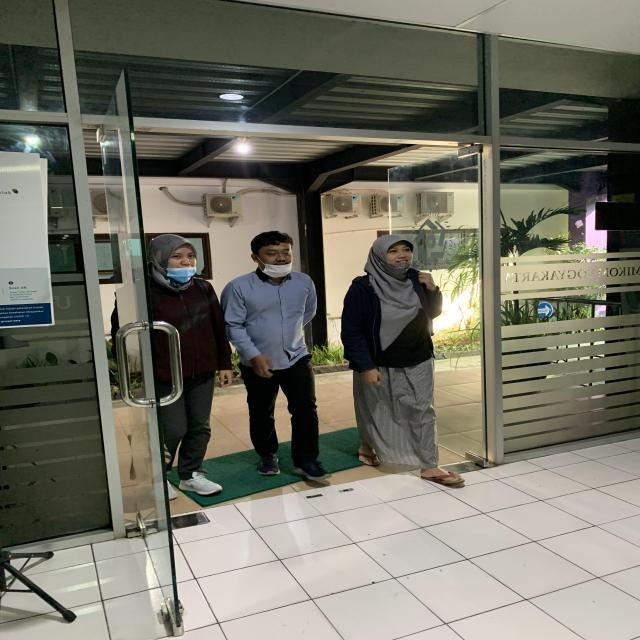hairnet: (373, 250, 422, 280), (156, 256, 202, 286), (252, 255, 299, 281)
